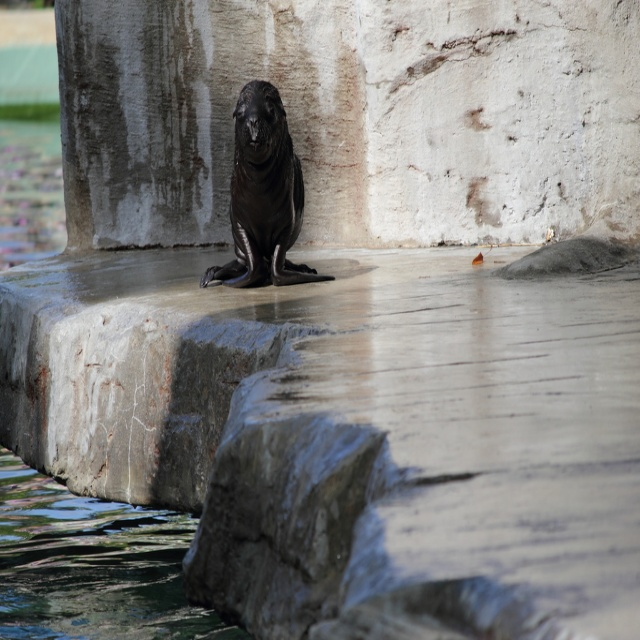Sea lion: (200, 79, 336, 289)
